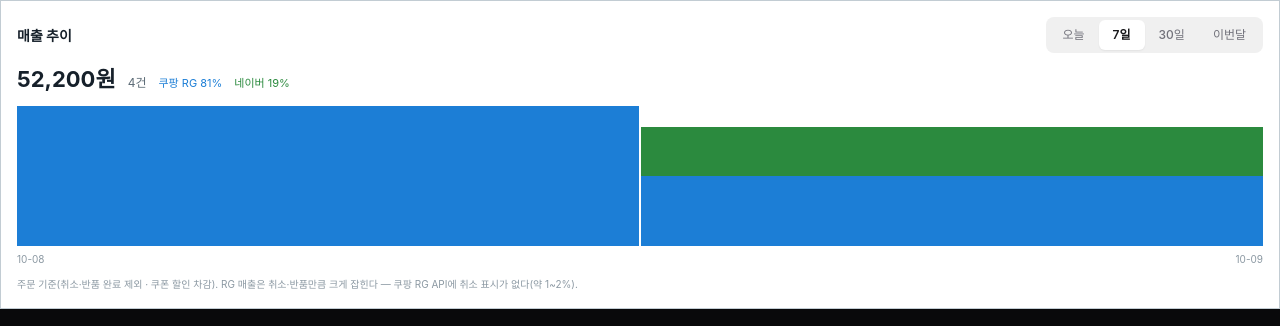
Test: RevenueTrend › 막대에 마우스를 올리면 날짜·합계·건수·채널별 금액이 뜨고, 벗어나면 사라진다
Hover over the picture named "10-09 매출" at (952, 176), box [641, 106, 1263, 246]
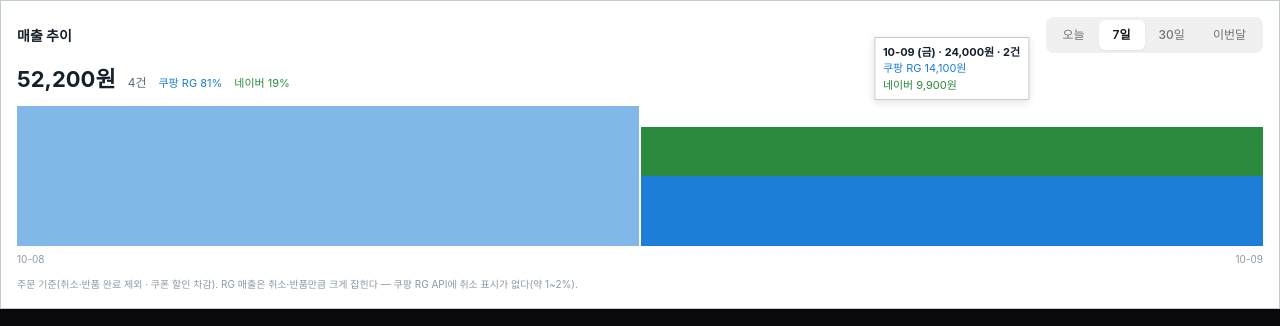
Expected: the tooltip shows "10-09 (금)", [883, 44, 1020, 58]
Expected: the tooltip shows "24,000원", [883, 44, 1020, 58]
Expected: the tooltip shows "2건", [883, 44, 1020, 58]
Move the pointer off the picture named "10-09 매출", box [641, 106, 1263, 246]
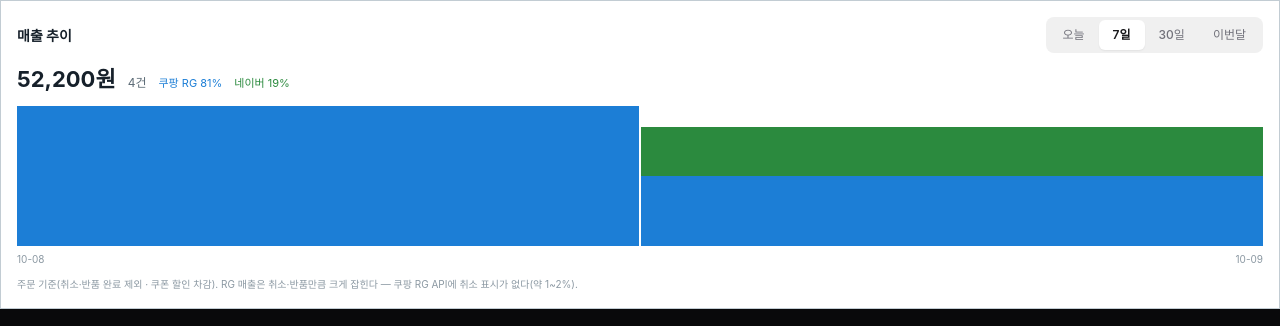
Expected: the tooltip "10-09 (금) · 24,000원 · 2건 쿠팡 RG 14,100원 네이버 9,900원" is gone
